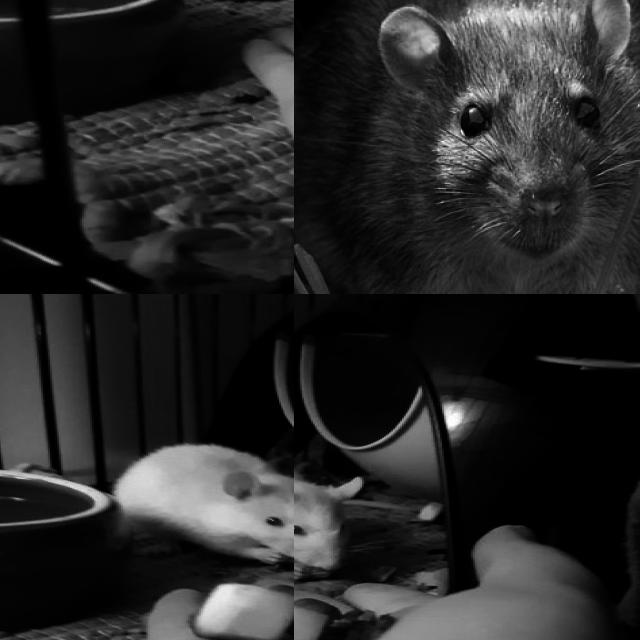rat: (319, 0, 640, 294), (104, 444, 294, 569), (294, 451, 367, 586)
